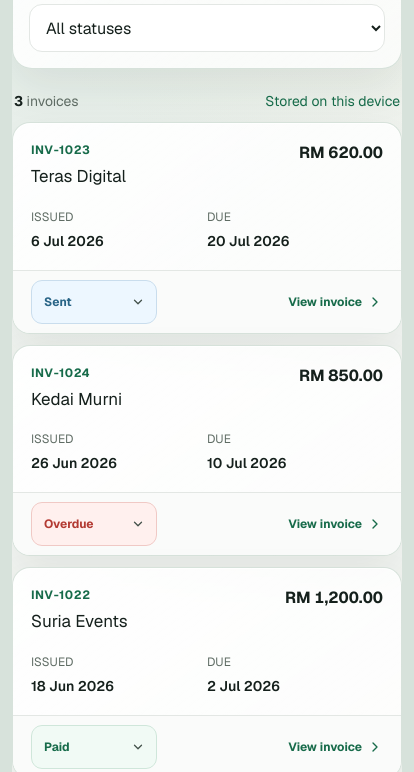
Scenario: InvoiceList › updates invoice status in browser storage
The width and height of the screenshot is (414, 772).
(page scrolled)
Select "Sent" in the dropdown named "Status for INV-1022" below "18 Jun 2026" at (94, 746), box [31,724,157,768]
(page scrolled)
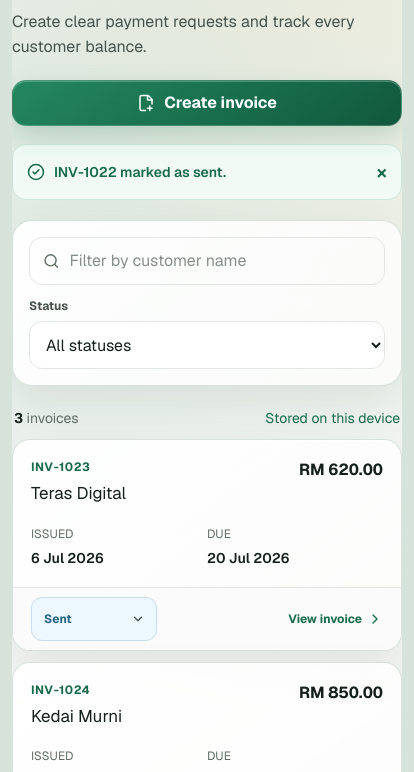
Check: the message shows "marked as sent", box [54,162,226,180]
